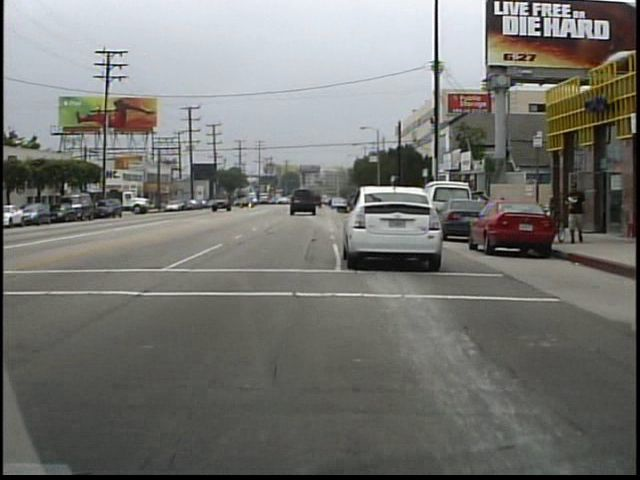person: (565, 174, 592, 248)
